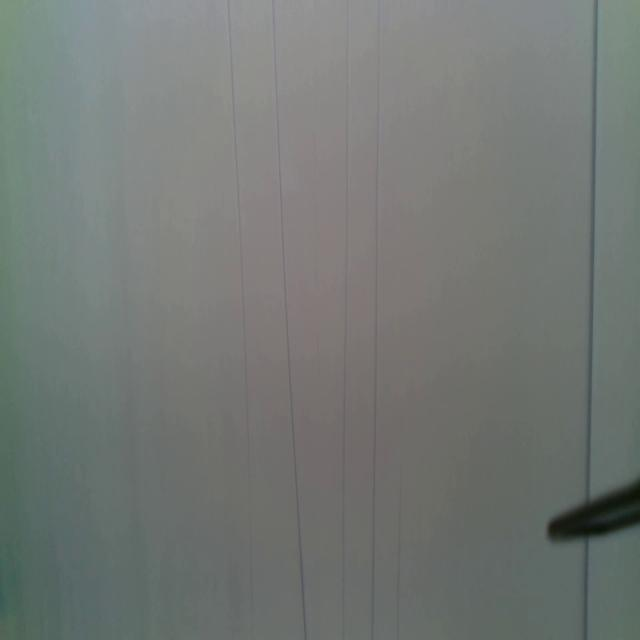crease: (272, 1, 308, 640), (227, 0, 255, 640), (370, 0, 382, 639), (585, 0, 600, 498), (341, 0, 352, 640), (394, 476, 403, 640), (580, 536, 592, 640)
